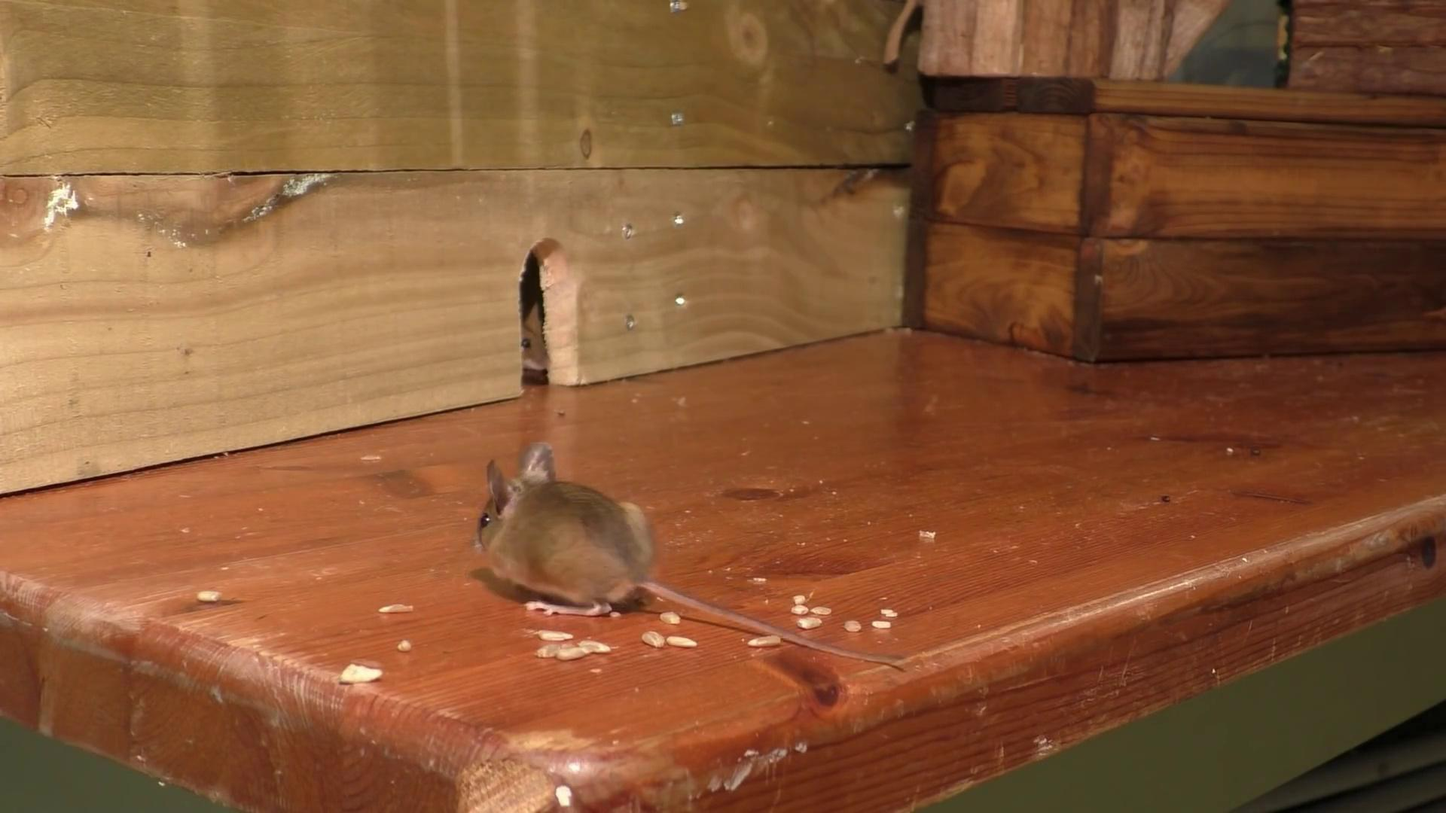rat: (475, 446, 906, 665), (520, 306, 551, 369)
